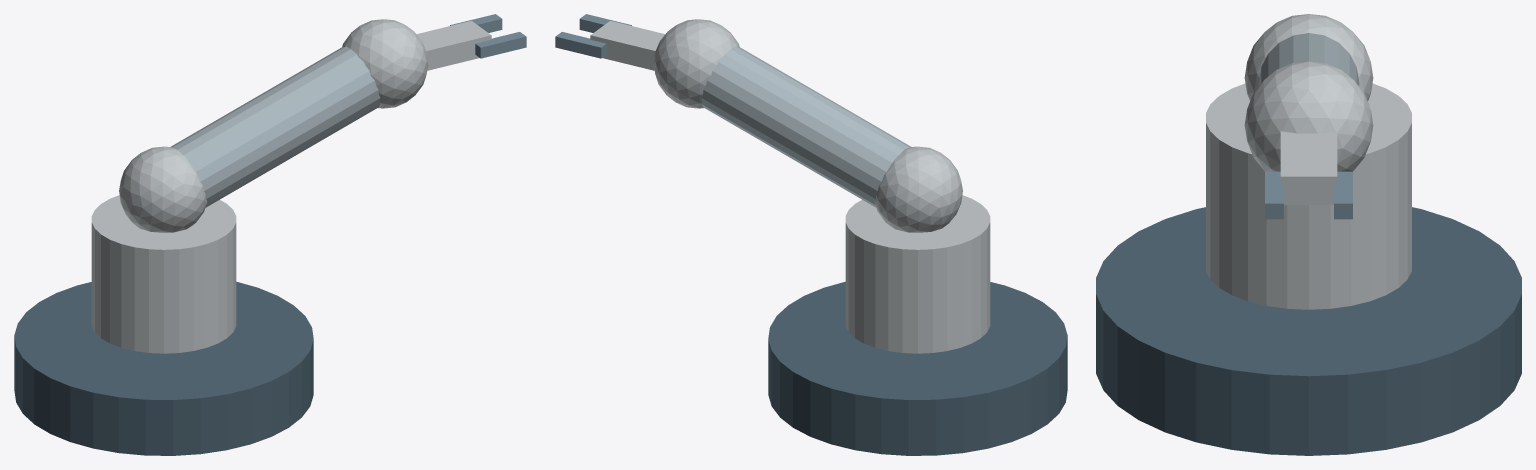
Rendered from 10_L76_AutomatedWaferTransferRobot.glb.
The picture shows the model from 3 angles, left to right: view 1: azimuth 30°, elevation 25°; view 2: azimuth 150°, elevation 25°; view 3: azimuth 270°, elevation 25°; orthographic projection. The views are drawn at different scales.
Visible parts, largest first — view 1: AutomatedWaferTransferRobot_Node_0000, AutomatedWaferTransferRobot_Node_0001, AutomatedWaferTransferRobot_Node_0002, AutomatedWaferTransferRobot_Node_0003, AutomatedWaferTransferRobot_Node_0004, AutomatedWaferTransferRobot_Node_0005, AutomatedWaferTransferRobot_Node_0007; view 2: AutomatedWaferTransferRobot_Node_0000, AutomatedWaferTransferRobot_Node_0001, AutomatedWaferTransferRobot_Node_0002, AutomatedWaferTransferRobot_Node_0003, AutomatedWaferTransferRobot_Node_0004, AutomatedWaferTransferRobot_Node_0005, AutomatedWaferTransferRobot_Node_0006; view 3: AutomatedWaferTransferRobot_Node_0000, AutomatedWaferTransferRobot_Node_0001, AutomatedWaferTransferRobot_Node_0004, AutomatedWaferTransferRobot_Node_0005, AutomatedWaferTransferRobot_Node_0003, AutomatedWaferTransferRobot_Node_0002, AutomatedWaferTransferRobot_Node_0006, AutomatedWaferTransferRobot_Node_0007.
Part boxes in pixels (left/top/right/bottom): AutomatedWaferTransferRobot_Node_0000: left=14, top=281, right=313, bottom=455; AutomatedWaferTransferRobot_Node_0001: left=91, top=195, right=236, bottom=353; AutomatedWaferTransferRobot_Node_0002: left=171, top=46, right=380, bottom=207; AutomatedWaferTransferRobot_Node_0003: left=119, top=146, right=207, bottom=232; AutomatedWaferTransferRobot_Node_0004: left=342, top=19, right=428, bottom=108; AutomatedWaferTransferRobot_Node_0005: left=416, top=21, right=491, bottom=70; AutomatedWaferTransferRobot_Node_0007: left=475, top=32, right=526, bottom=58; AutomatedWaferTransferRobot_Node_0000: left=768, top=281, right=1067, bottom=455; AutomatedWaferTransferRobot_Node_0001: left=845, top=195, right=990, bottom=353; AutomatedWaferTransferRobot_Node_0002: left=701, top=46, right=910, bottom=207; AutomatedWaferTransferRobot_Node_0003: left=874, top=146, right=962, bottom=232; AutomatedWaferTransferRobot_Node_0004: left=653, top=19, right=739, bottom=108; AutomatedWaferTransferRobot_Node_0005: left=590, top=21, right=665, bottom=70; AutomatedWaferTransferRobot_Node_0006: left=555, top=32, right=606, bottom=58; AutomatedWaferTransferRobot_Node_0000: left=1096, top=207, right=1521, bottom=455; AutomatedWaferTransferRobot_Node_0001: left=1206, top=83, right=1411, bottom=309; AutomatedWaferTransferRobot_Node_0004: left=1244, top=61, right=1373, bottom=171; AutomatedWaferTransferRobot_Node_0005: left=1280, top=131, right=1337, bottom=204; AutomatedWaferTransferRobot_Node_0003: left=1244, top=14, right=1373, bottom=100; AutomatedWaferTransferRobot_Node_0002: left=1258, top=33, right=1359, bottom=85; AutomatedWaferTransferRobot_Node_0006: left=1334, top=171, right=1352, bottom=219; AutomatedWaferTransferRobot_Node_0007: left=1265, top=171, right=1283, bottom=219.
Size of the model in its own units: 2.5 by 1.58 by 1.35.
